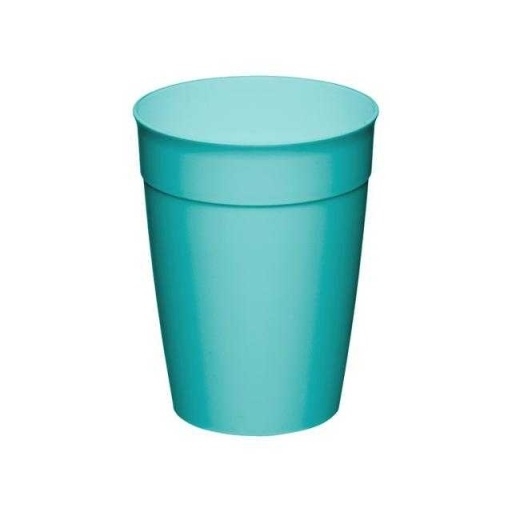cup: (132, 75, 380, 436)
